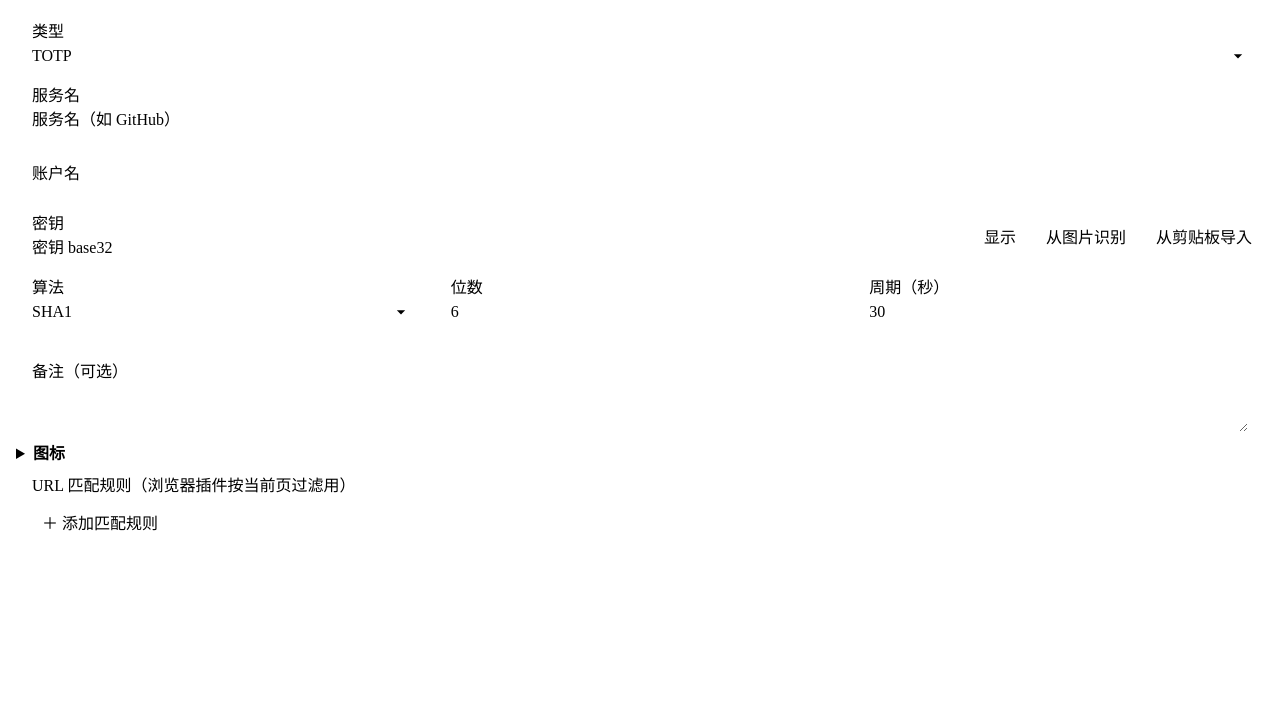
Test case: EntryForm 剪贴板三意图 › prefill：单条 URI → 覆盖 OTP 字段（issuer/label/secret 回填）
Step 1. Click the button with test id "clipboard-pick" → (1204, 236), box top-left (1144, 216), bottom-right (1264, 256)
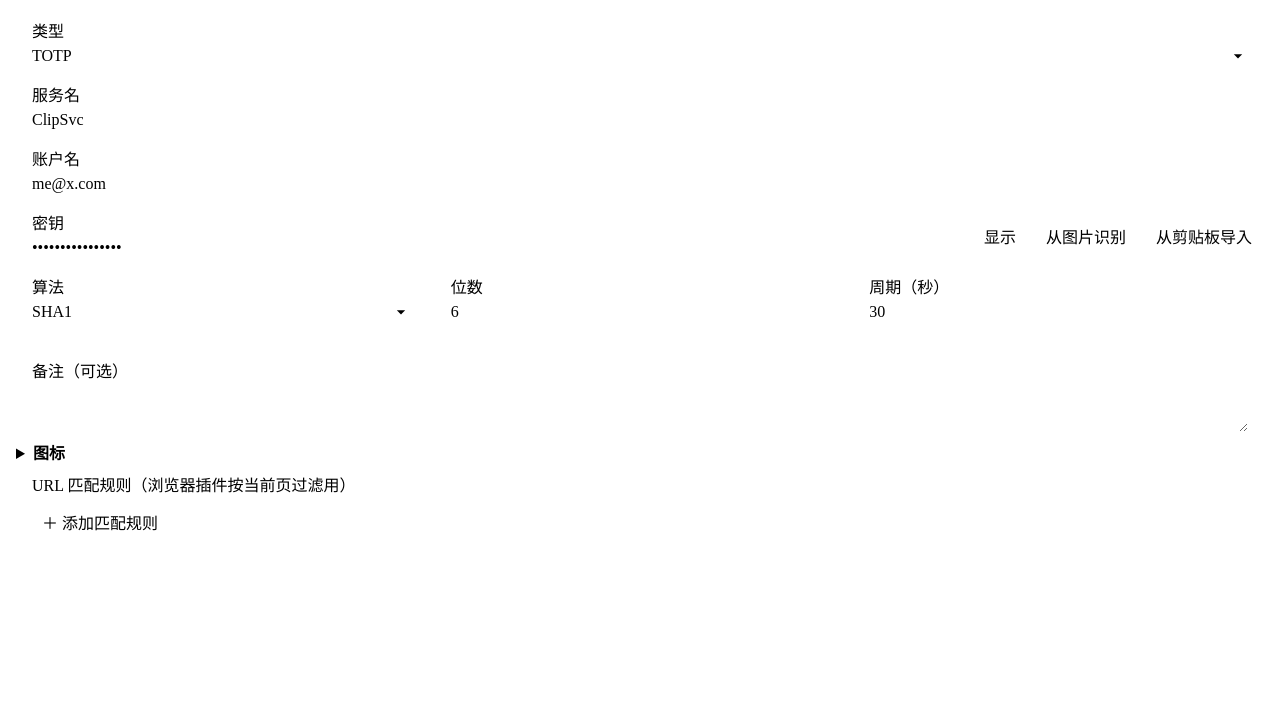
Now the field named "服务名" holds "ClipSvc", box top-left (32, 108), bottom-right (1248, 132)
Now the field named "账户名" holds "me@x.com", box top-left (32, 172), bottom-right (1248, 196)
Now the password field with placeholder "密钥 base32" holds "JBSWY3DPEHPK3PXP", box top-left (32, 236), bottom-right (950, 260)
